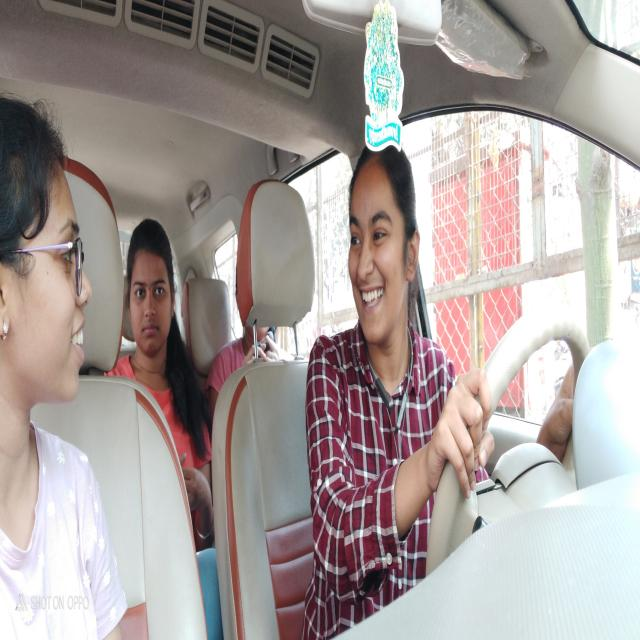LeftRight: (2, 118, 93, 407), (346, 149, 419, 334)
person: (127, 230, 176, 355)
talking: (69, 320, 87, 360), (358, 286, 385, 310)
